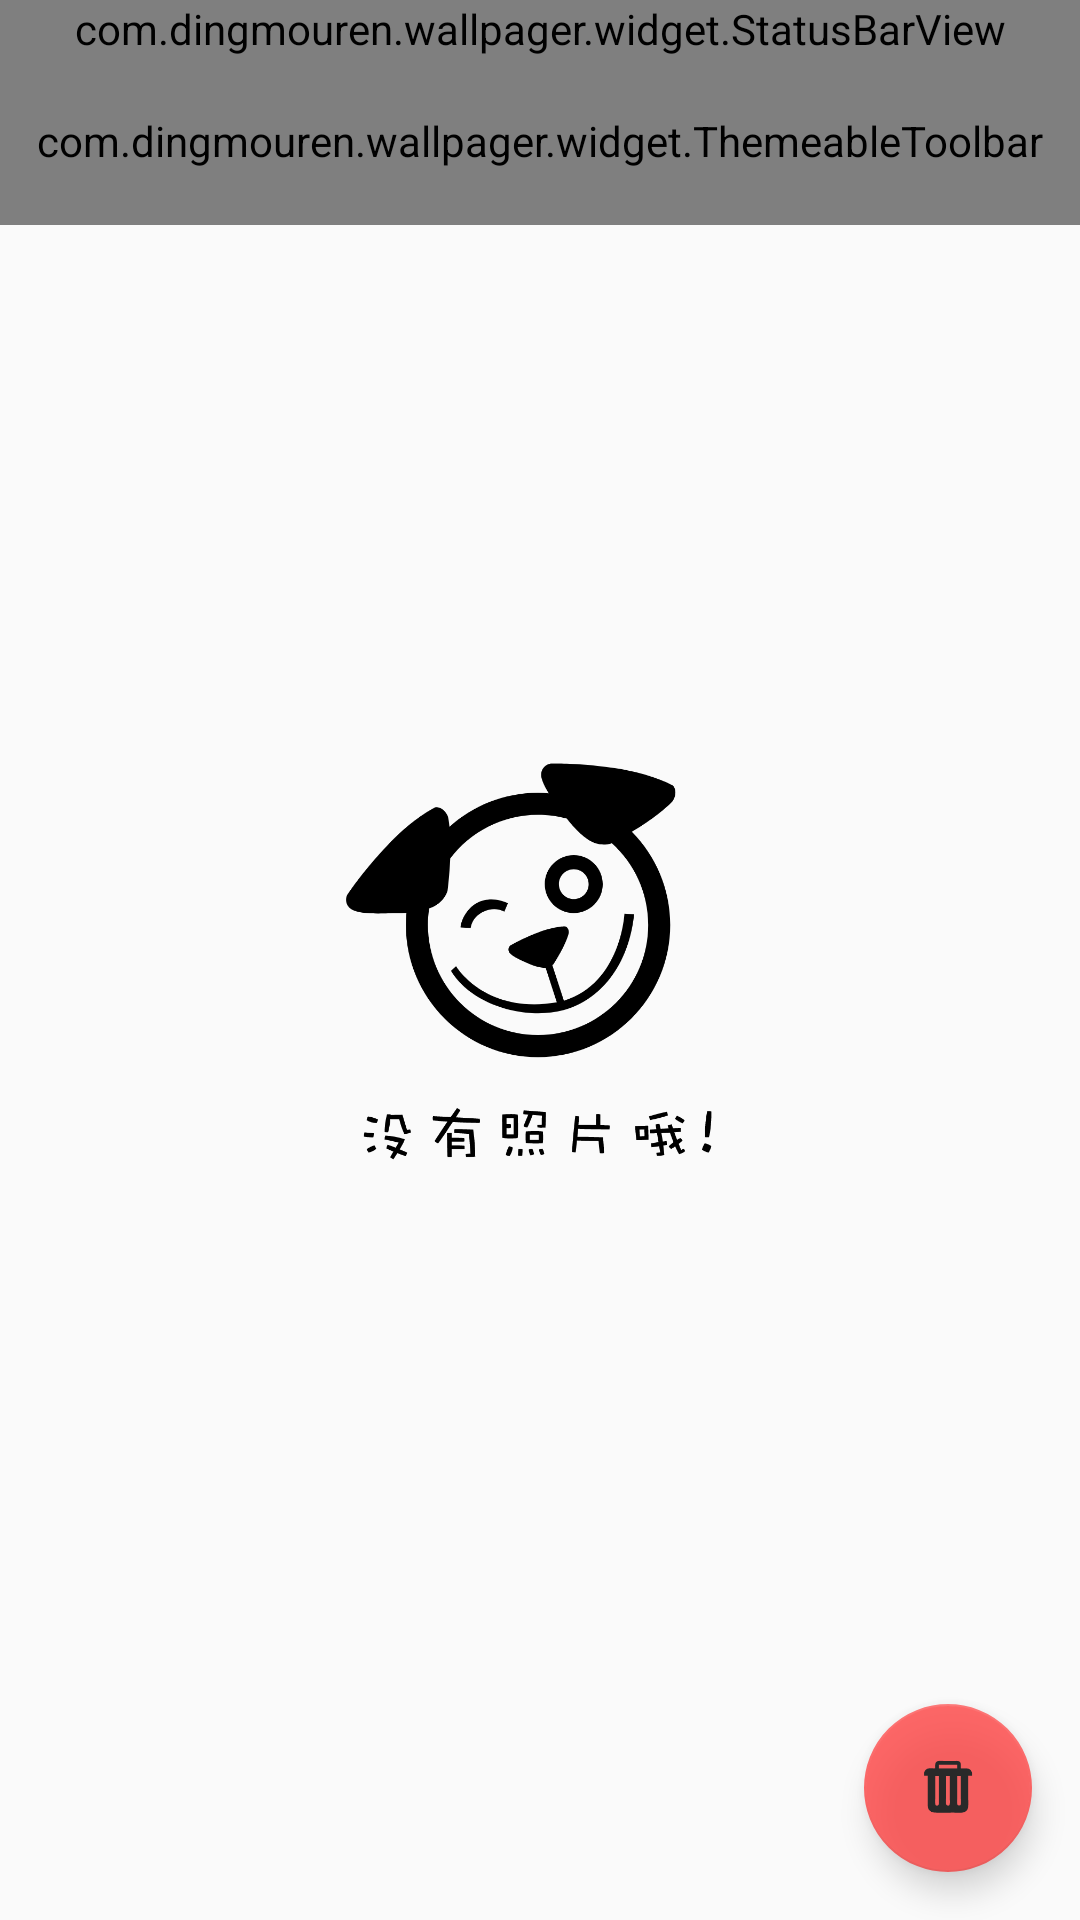

Named icons in this screenshot (1080w x 1920h) and their bounding boxes, (x1, y1, x2, y2):
delete: (864, 1704, 1032, 1872)
